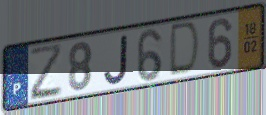6: (136, 27, 164, 85), (206, 17, 234, 71)
8: (67, 40, 94, 93)
D: (167, 20, 202, 79)
J: (102, 33, 129, 87)
Z: (28, 41, 64, 103)
